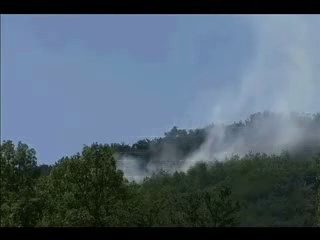smoke: (210, 14, 315, 166), (104, 115, 210, 183)
